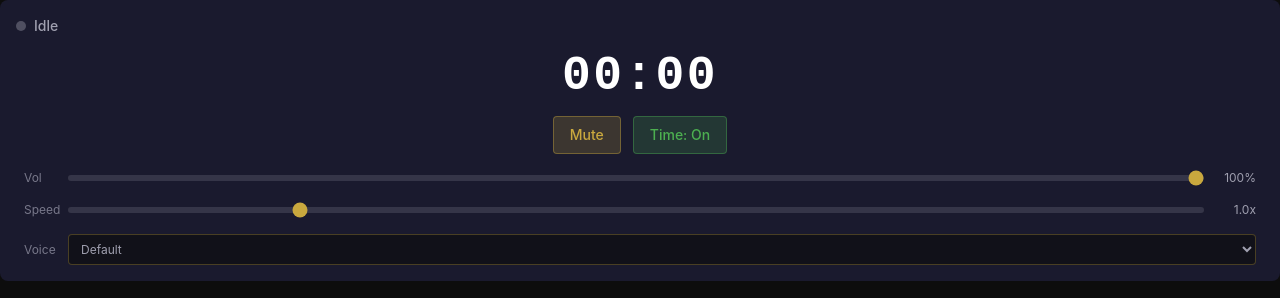
MainDock › UI controls › mute toggle button present and toggles state
Click the button with test id "mute-toggle".
click(587, 135)  # box [553,116,621,154]
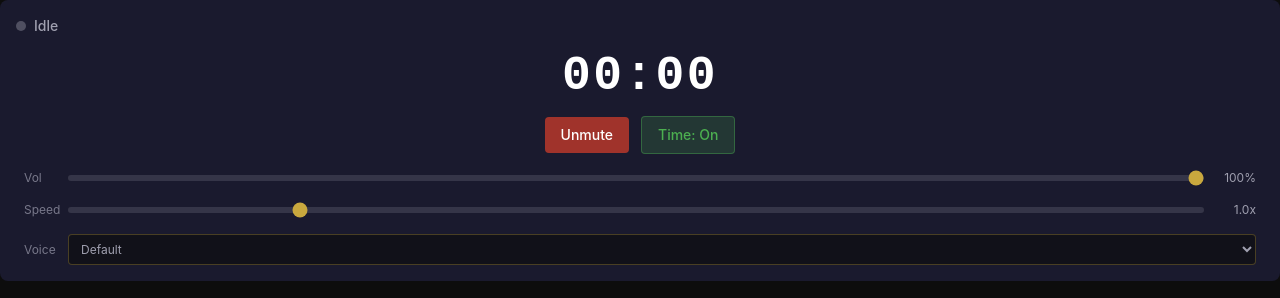
Result: the button with test id "mute-toggle" reads "Unmute" at [544,117,629,153]
